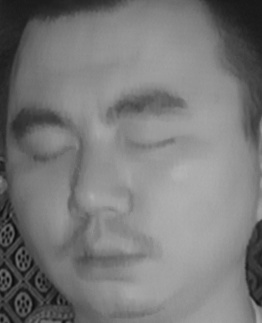blink: (122, 122, 179, 163), (23, 135, 79, 173)
mouth: (62, 226, 151, 285)
